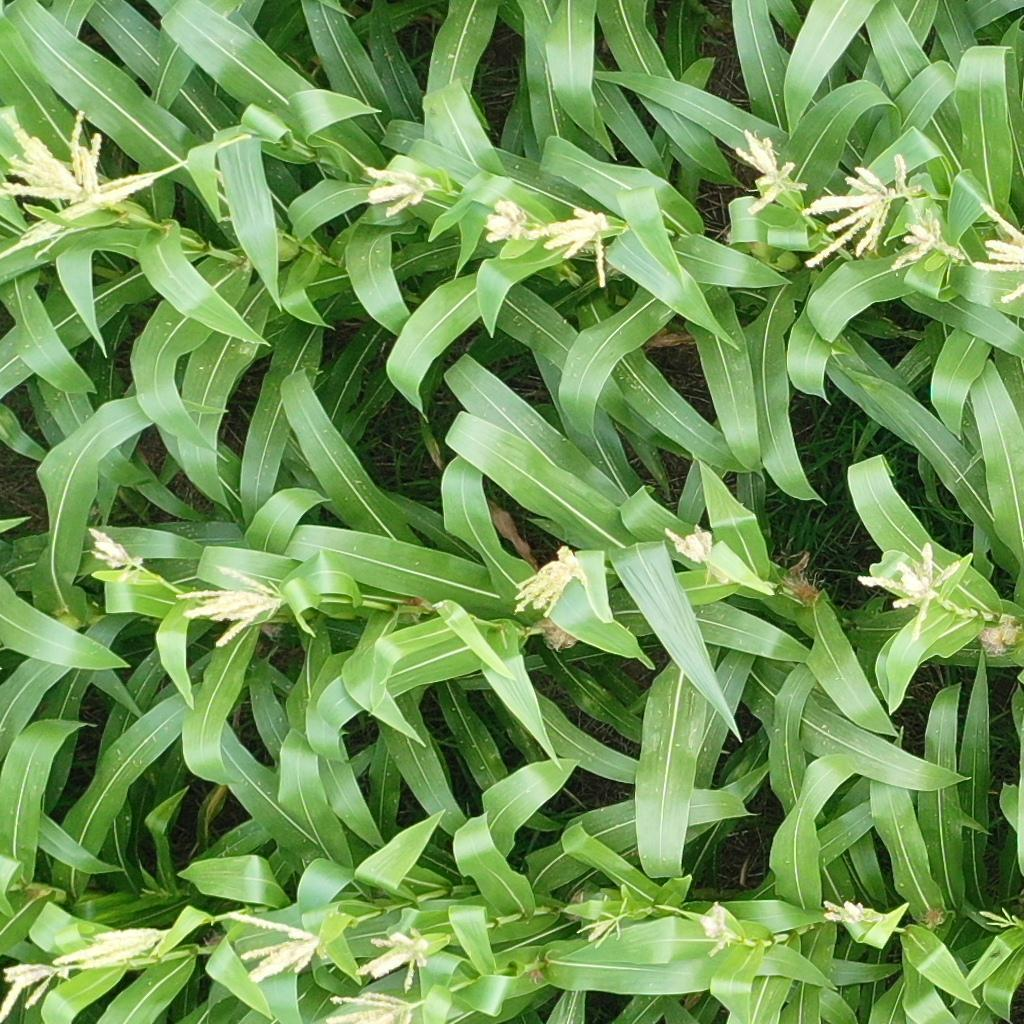Tassel: (806, 150, 923, 266), (1, 173, 155, 261), (3, 111, 102, 200), (175, 566, 285, 645), (530, 205, 619, 290), (227, 910, 322, 983), (734, 131, 808, 214), (53, 927, 178, 974), (512, 546, 587, 621), (355, 925, 433, 994), (975, 199, 1024, 305), (893, 203, 968, 271), (362, 166, 439, 215), (1, 961, 58, 1024), (84, 525, 147, 581), (328, 989, 422, 1024), (575, 894, 632, 950), (854, 561, 909, 611), (661, 525, 717, 567), (697, 902, 740, 955), (486, 199, 534, 244), (821, 898, 875, 928), (978, 907, 1016, 930)
